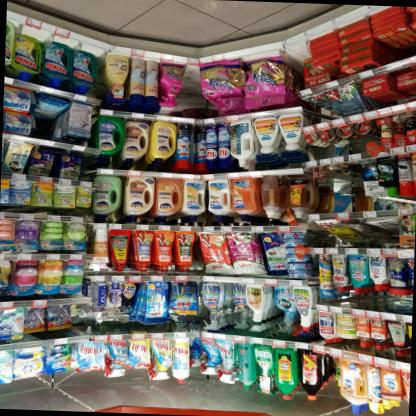empty_space: (181, 66, 197, 117), (285, 41, 311, 56)
